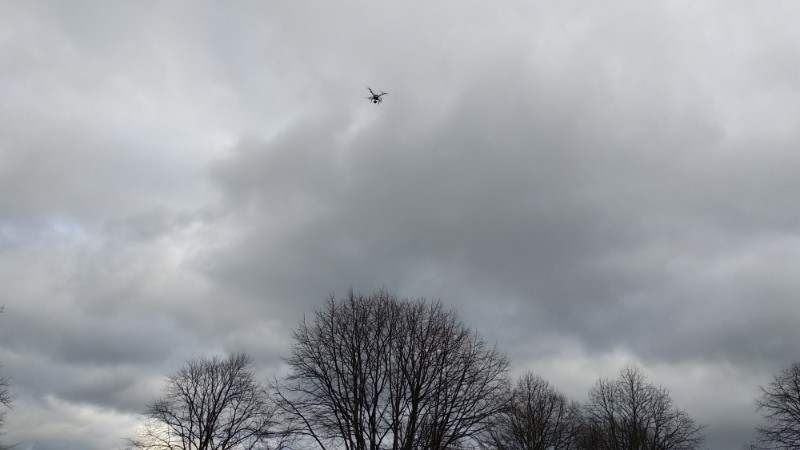drone: (367, 88, 387, 105)
